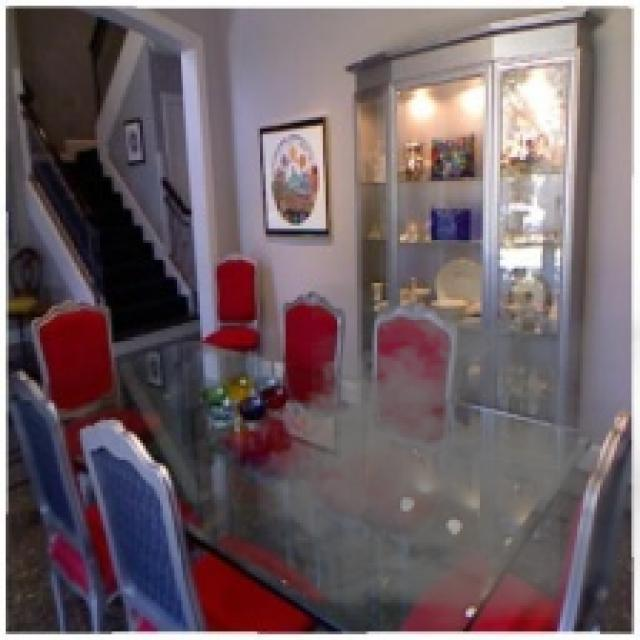Smoke: (245, 283, 638, 632)
